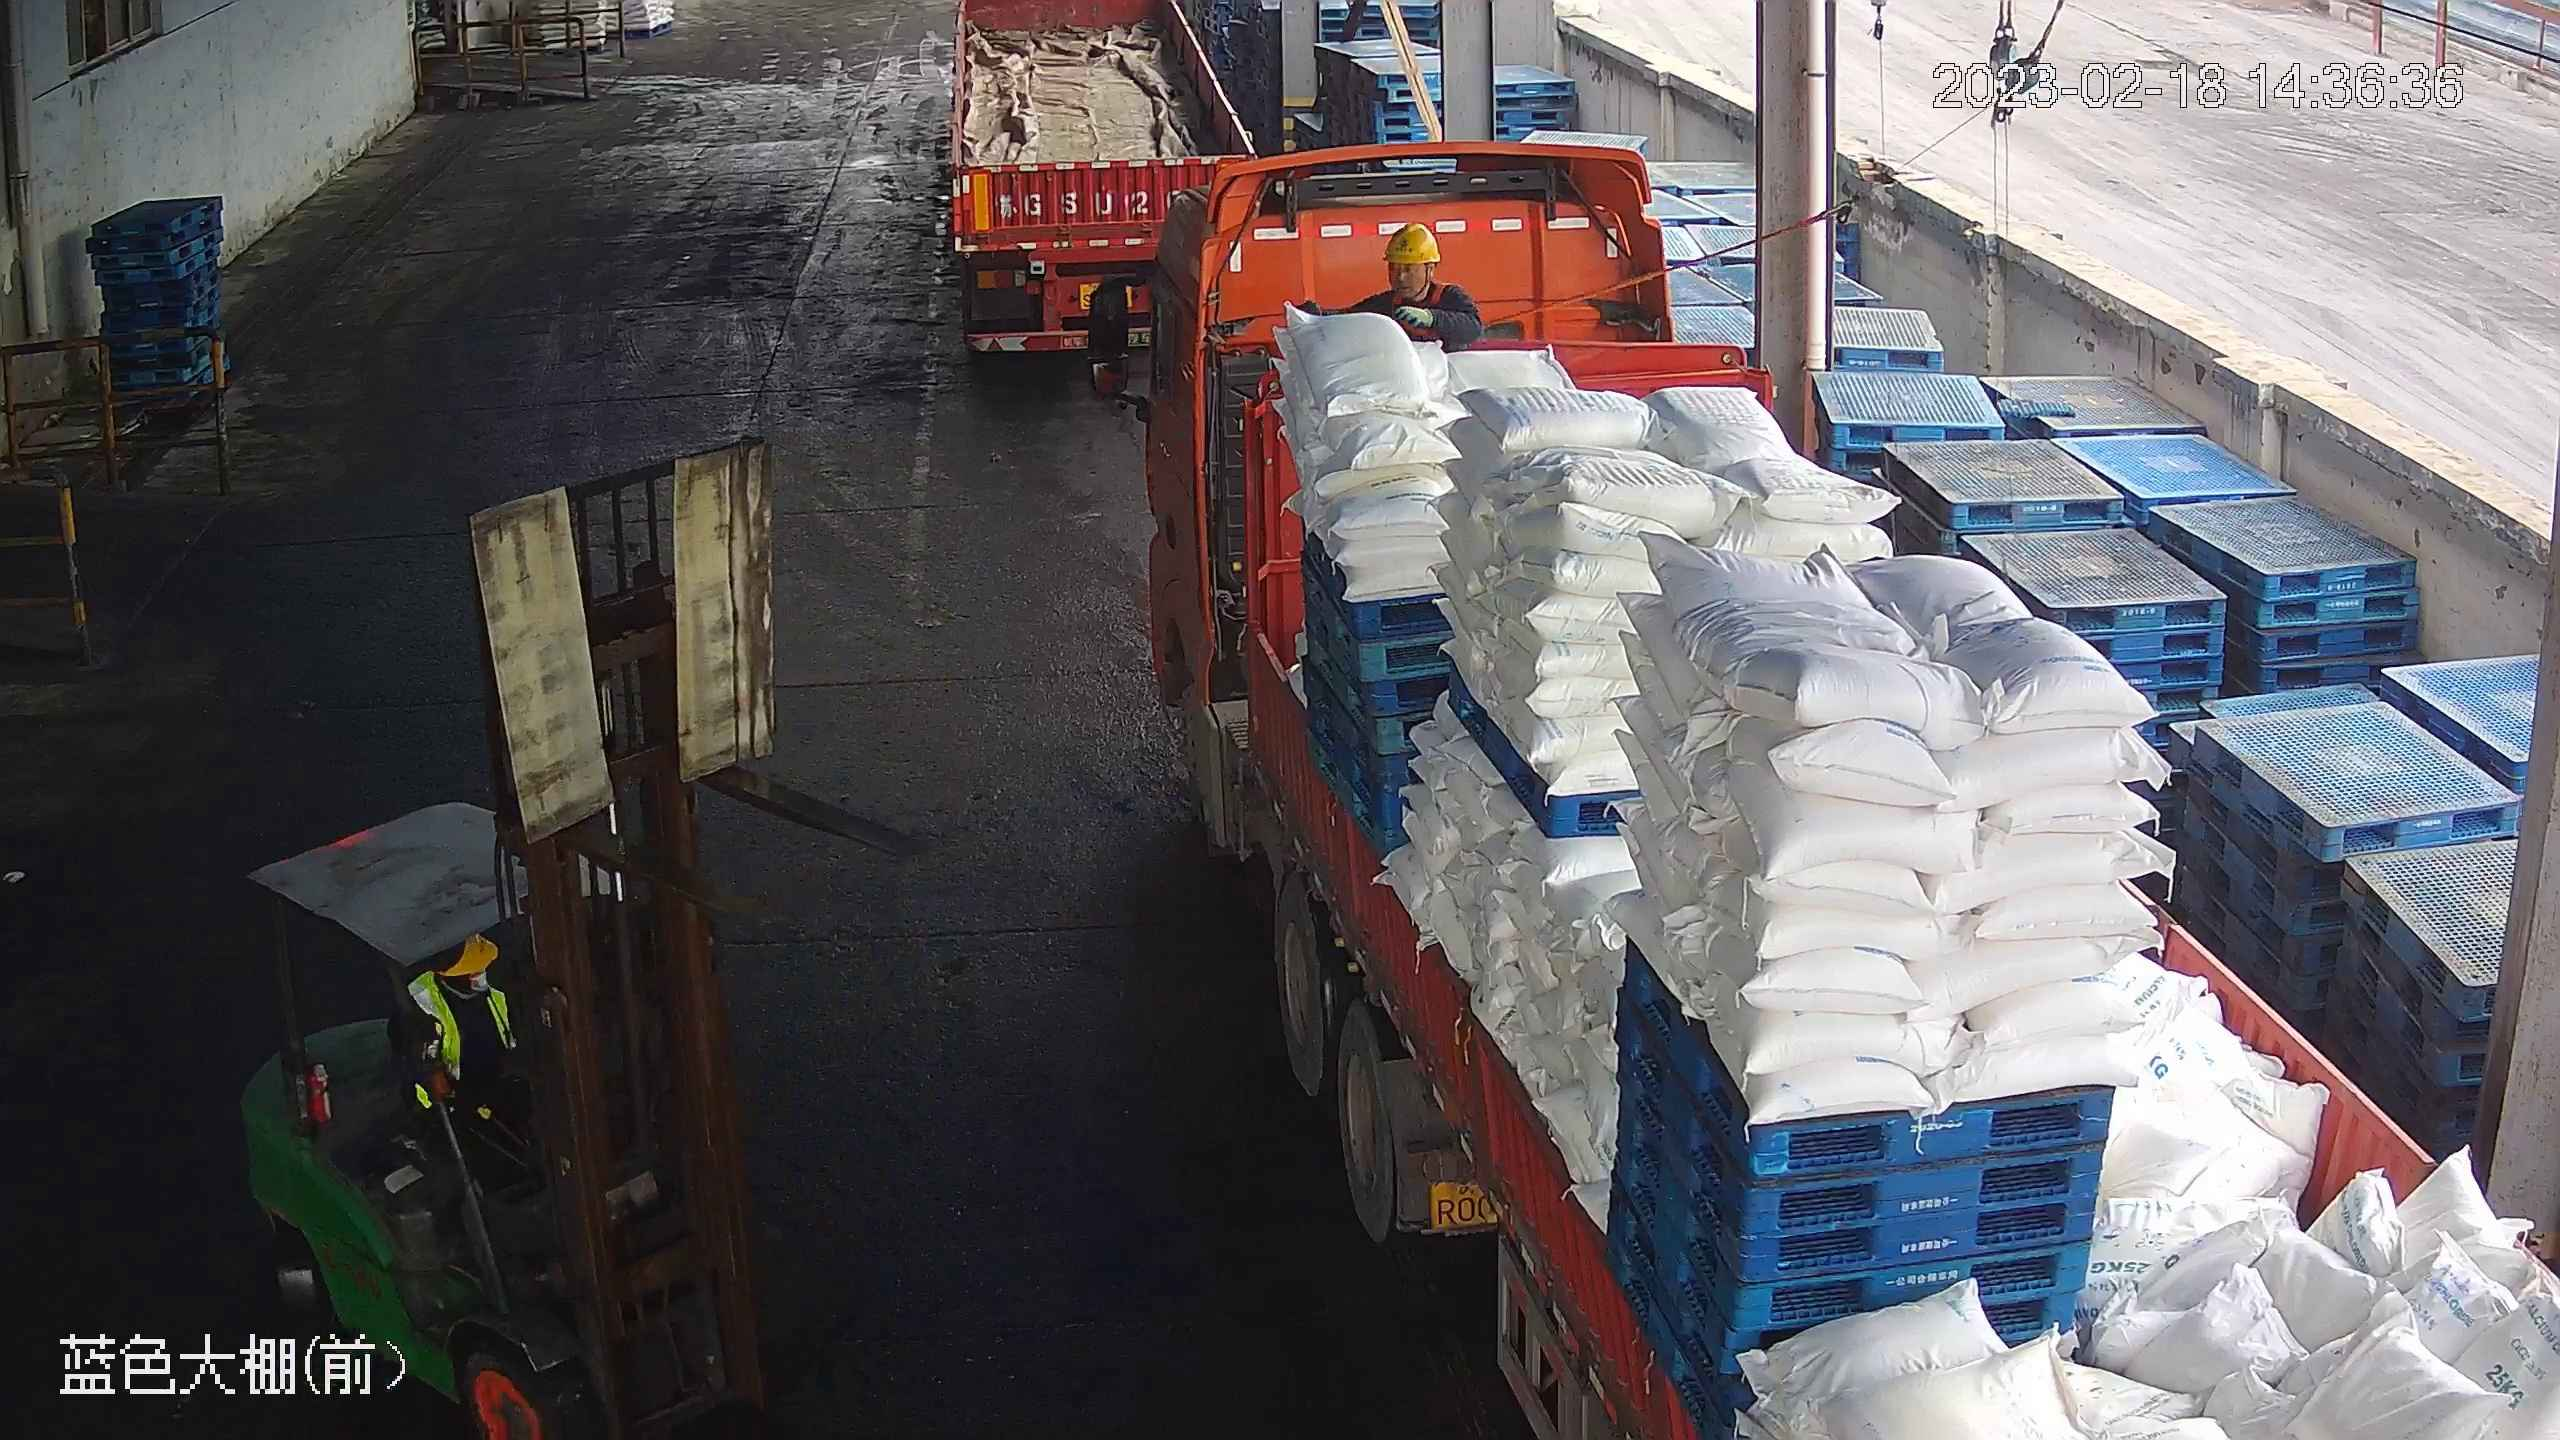belt: (1388, 286, 1452, 341)
head: (1366, 222, 1475, 313)
helmet: (1382, 222, 1442, 266)
truck: (1142, 138, 2560, 1440)
